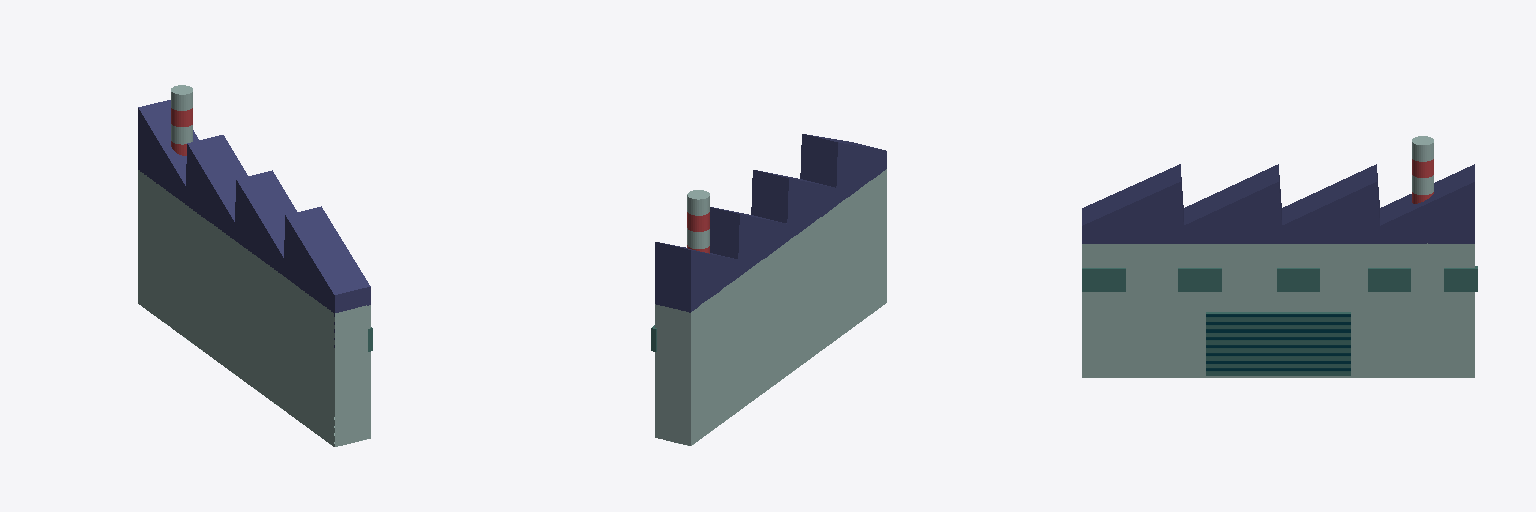
3 views of the same model, side by side, from view 1: azimuth 30°, elevation 25°; view 2: azimuth 150°, elevation 25°; view 3: azimuth 270°, elevation 25° (orthographic).
Visible parts, largest first — view 1: 立方体; view 2: 立方体; view 3: 立方体.
Part boxes in pixels (left/top/right/bottom): 立方体: left=138, top=85, right=372, bottom=446; 立方体: left=651, top=134, right=886, bottom=445; 立方体: left=1082, top=136, right=1477, bottom=377.
Size of the model in its own units: 1.91 by 10.26 by 16.11.
1 materials, 1 textured.